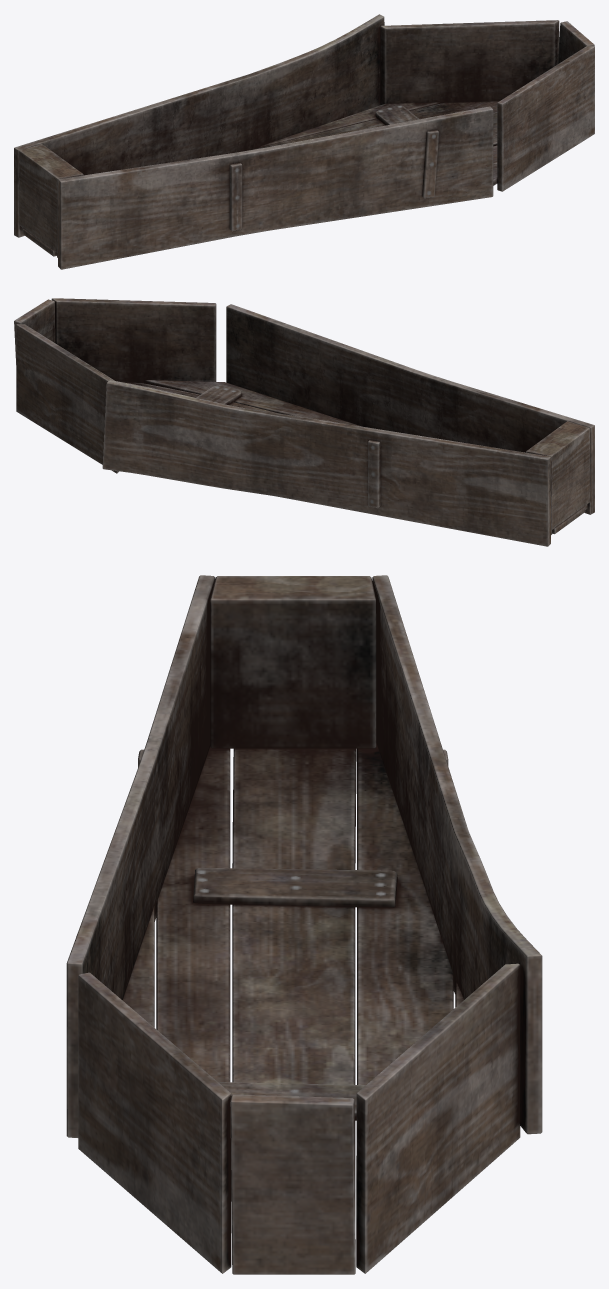
File: SM_CoffinsA_001.fbx
The picture shows the model from 3 angles, top to bottom: view 1: azimuth 30°, elevation 25°; view 2: azimuth 150°, elevation 25°; view 3: azimuth 270°, elevation 25°; orthographic projection. The views are drawn at different scales.
Parts seen in each view (by area): view 1: SM_CoffinsA_001_LOD0; view 2: SM_CoffinsA_001_LOD0; view 3: SM_CoffinsA_001_LOD0.
Part boxes in pixels (x1,y1,x2,y2): SM_CoffinsA_001_LOD0: (14, 14, 594, 269); SM_CoffinsA_001_LOD0: (14, 298, 594, 546); SM_CoffinsA_001_LOD0: (66, 575, 542, 1274).
Size of the model in its own units: 194 by 73.6 by 32.21.
Materials: 1 (1 with a texture image).
